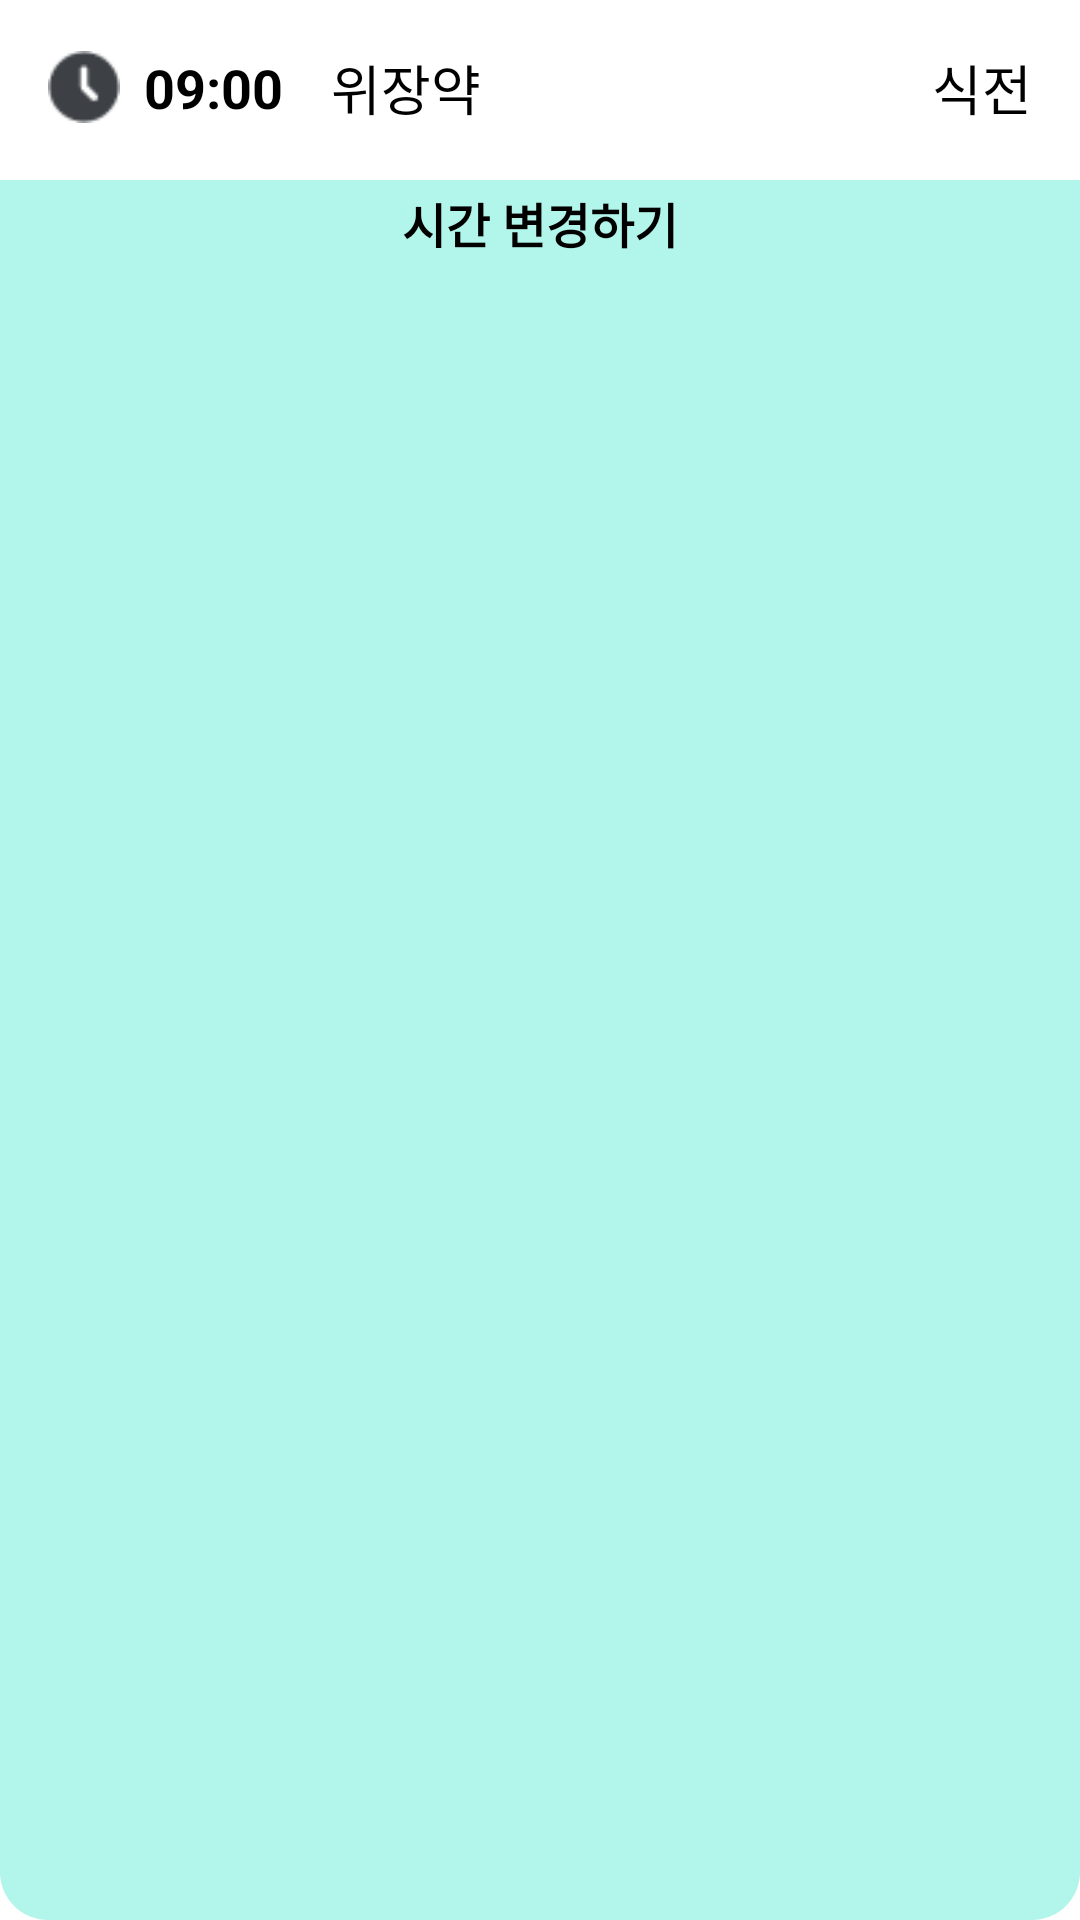

Locate icon controls on the screen. Image size 1080×1920, boxes as box(x1, y1, x2, y2).
시계 아이콘: box(48, 51, 120, 123)
